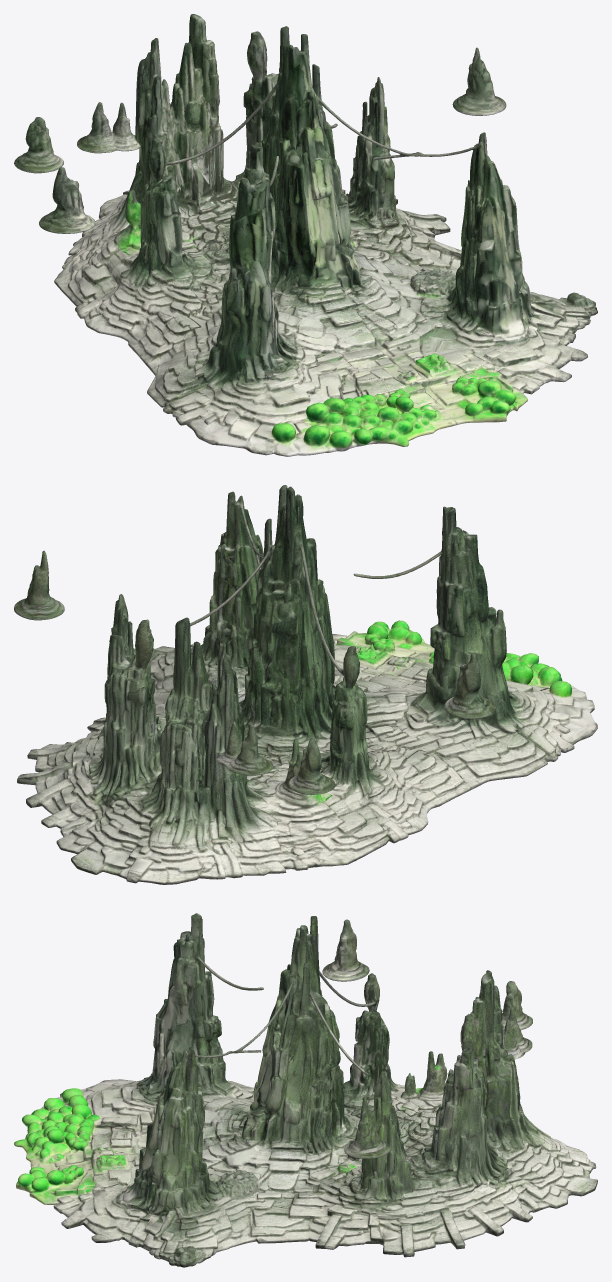
File: Isle_of_the_Stone_Spi.glb
The picture shows the model from 3 angles, top to bottom: view 1: azimuth 30°, elevation 25°; view 2: azimuth 150°, elevation 25°; view 3: azimuth 270°, elevation 25°; orthographic projection. The views are drawn at different scales.
Parts seen in each view (by area): view 1: Isle_of_the_Stone_Spi; view 2: Isle_of_the_Stone_Spi; view 3: Isle_of_the_Stone_Spi.
Part boxes in pixels (left/top/right/bottom): Isle_of_the_Stone_Spi: left=14, top=14, right=597, bottom=456; Isle_of_the_Stone_Spi: left=14, top=485, right=597, bottom=884; Isle_of_the_Stone_Spi: left=14, top=913, right=597, bottom=1267.
Size of the model in its own units: 1.56 by 0.8989 by 1.9.
1 material, 1 textured.
